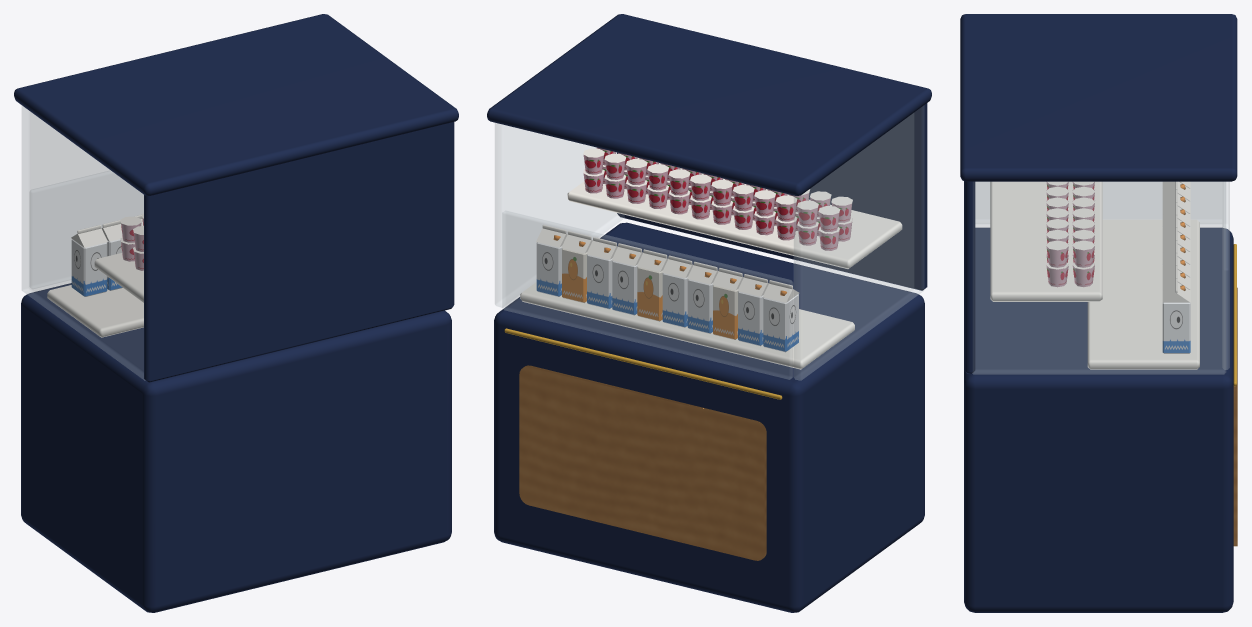
File: dairy_T1.fbx
3 renders of one model, left to right at view 1: azimuth 30°, elevation 25°; view 2: azimuth 150°, elevation 25°; view 3: azimuth 270°, elevation 25°, orthographic. The views are drawn at different scales.
Visible parts, largest first — view 1: Body, Anim Fill 3; view 2: Body, Anim Fill 0, Anim Fill 1, Anim Fill 3, Anim Fill 2; view 3: Body, Anim Fill 0, Anim Fill 1, Anim Fill 2, Anim Fill 3.
Part boxes in pixels (x1,y1,x2,y2): Body: (14, 14, 458, 612); Anim Fill 3: (71, 213, 143, 296); Body: (487, 14, 931, 612); Anim Fill 0: (536, 147, 658, 308); Anim Fill 1: (612, 163, 722, 327); Anim Fill 3: (737, 189, 852, 352); Anim Fill 2: (687, 179, 787, 339); Body: (960, 14, 1237, 612); Anim Fill 0: (1046, 219, 1190, 353); Anim Fill 1: (1046, 186, 1190, 264); Anim Fill 2: (1046, 181, 1190, 226); Anim Fill 3: (1162, 181, 1190, 201).
Bounding box in the file's own units: 1 × 1.32 × 0.741.
